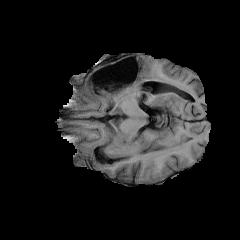glioma: (102, 53, 160, 99)
